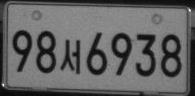3: (135, 33, 156, 77)
6: (85, 32, 107, 75)
8: (160, 33, 183, 77), (35, 30, 57, 73)
9: (12, 29, 33, 73), (111, 32, 132, 75)
서: (60, 39, 80, 73)
